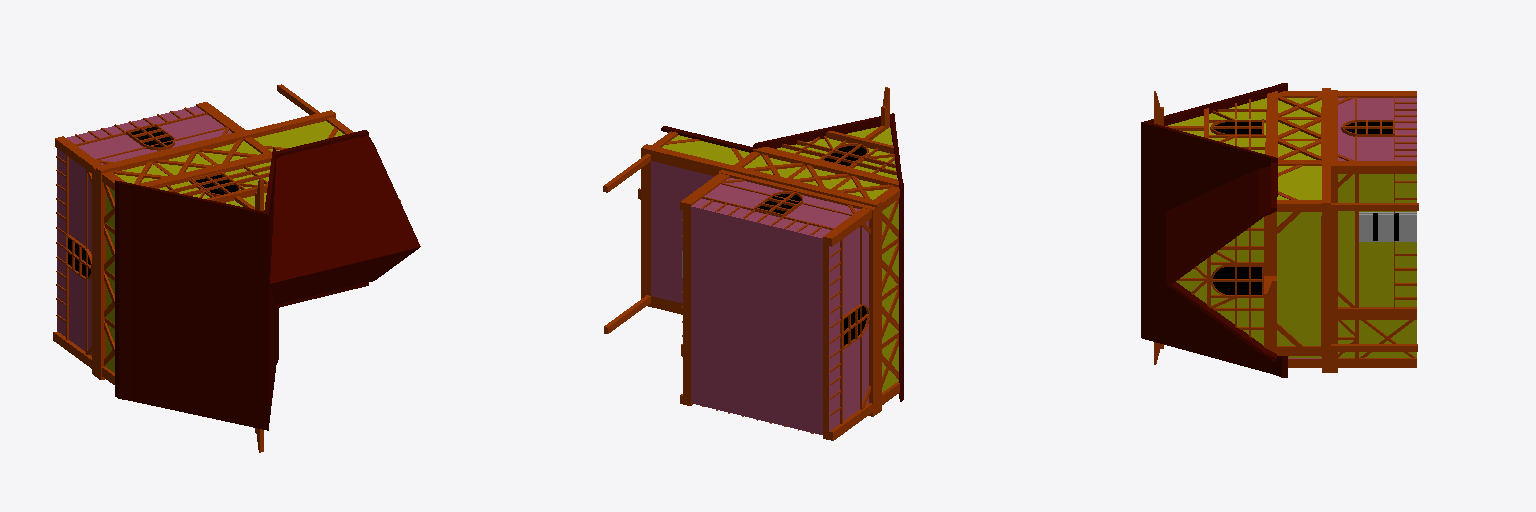
The model's file is house.obj.
The picture shows the model from 3 angles: view 1: azimuth 30°, elevation 25°; view 2: azimuth 150°, elevation 25°; view 3: azimuth 270°, elevation 25°; orthographic projection.
Visible parts, largest first — view 1: Cube, Plane_005_Plane.005, Plane_006_Plane.006, Plane_007_Plane.008, Plane_004_Plane.004; view 2: Cube, Plane_005_Plane.005, Plane_006_Plane.006, Plane_007_Plane.008, Plane_004_Plane.004; view 3: Cube, Plane_002_Plane.002, Cube_001_Cube.001, Plane_005_Plane.005, Plane_006_Plane.006, Plane_004_Plane.004.
Part boxes in pixels (x1,y1,x2,y2): Cube: (53,84,420,452); Plane_005_Plane.005: (56,107,270,351); Plane_006_Plane.006: (126,124,174,150); Plane_007_Plane.008: (66,234,91,279); Plane_004_Plane.004: (192,172,239,196); Cube: (603,87,903,440); Plane_005_Plane.005: (682,136,896,433); Plane_006_Plane.006: (754,191,802,216); Plane_007_Plane.008: (843,304,869,349); Plane_004_Plane.004: (820,143,868,166); Cube: (1141,83,1418,377); Plane_002_Plane.002: (1177,227,1263,337); Cube_001_Cube.001: (1359,212,1416,241); Plane_005_Plane.005: (1209,96,1416,307); Plane_006_Plane.006: (1341,120,1394,136); Plane_004_Plane.004: (1210,120,1263,134).
Bounding box in the file's own units: 9.25 × 8.82 × 8.15.